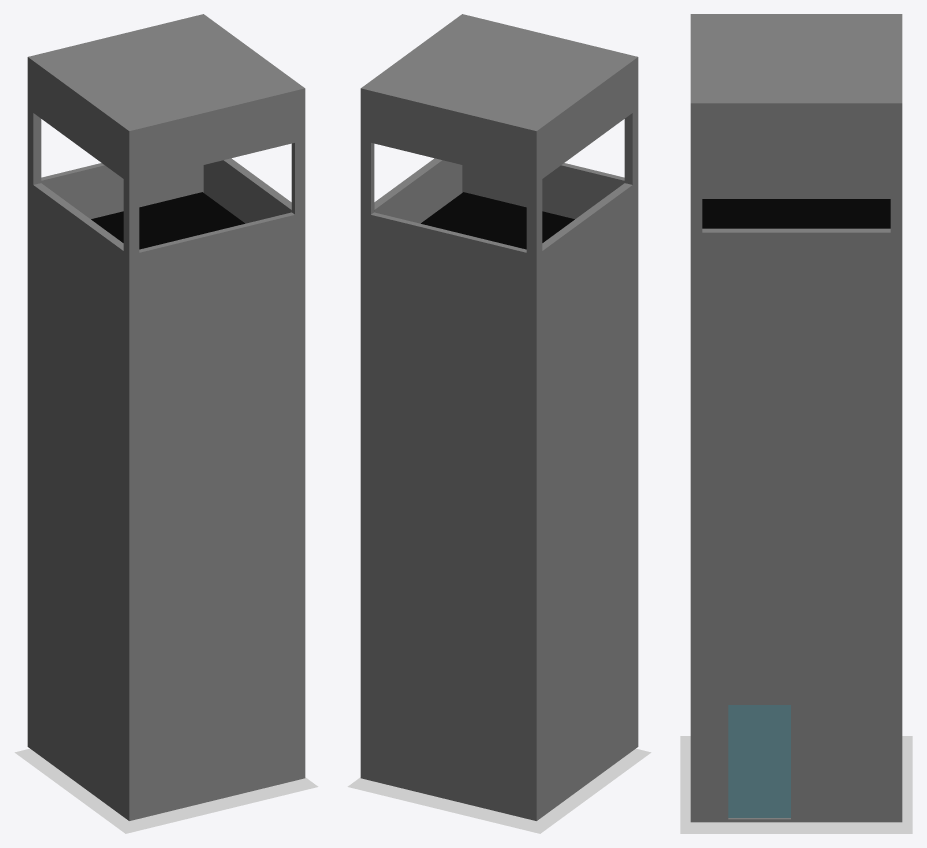
The model's file is towershooter2lvl.fbx.
3 views of the same model, side by side, from view 1: azimuth 30°, elevation 25°; view 2: azimuth 150°, elevation 25°; view 3: azimuth 270°, elevation 25° (orthographic). The views are drawn at different scales.
Visible parts, largest first — view 1: Куб.017, Куб.018, Плоскость.002; view 2: Куб.017, Куб.018, Плоскость.002; view 3: Куб.017, Куб.009, Куб.018, Плоскость.002.
Part boxes in pixels (x1,y1,x2,y2): Куб.017: (27,14,305,820); Куб.018: (91,192,244,249); Плоскость.002: (14,748,318,833); Куб.017: (360,14,638,820); Куб.018: (421,192,574,249); Плоскость.002: (347,748,651,833); Куб.017: (690,14,902,822); Куб.009: (728,705,790,817); Куб.018: (702,199,890,228); Плоскость.002: (680,736,912,833).
Size of the model in its own units: 200 by 690 by 200.
